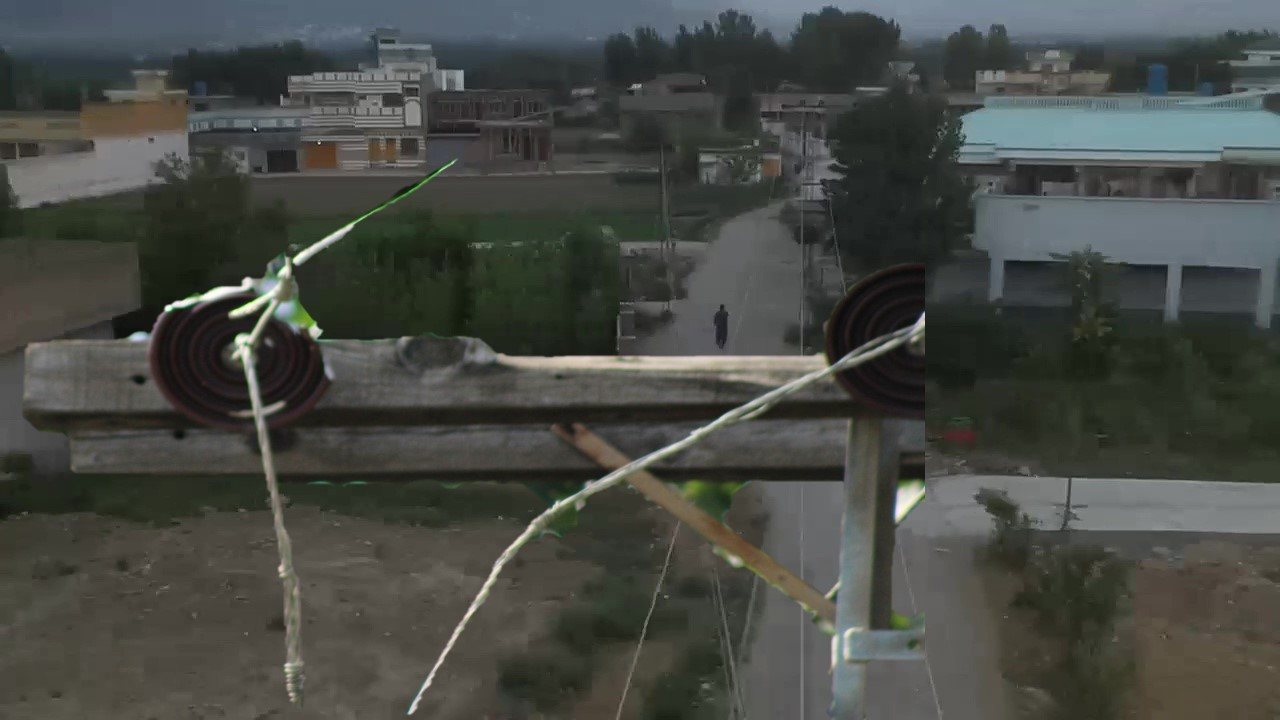defect_disc: (143, 263, 342, 440)
